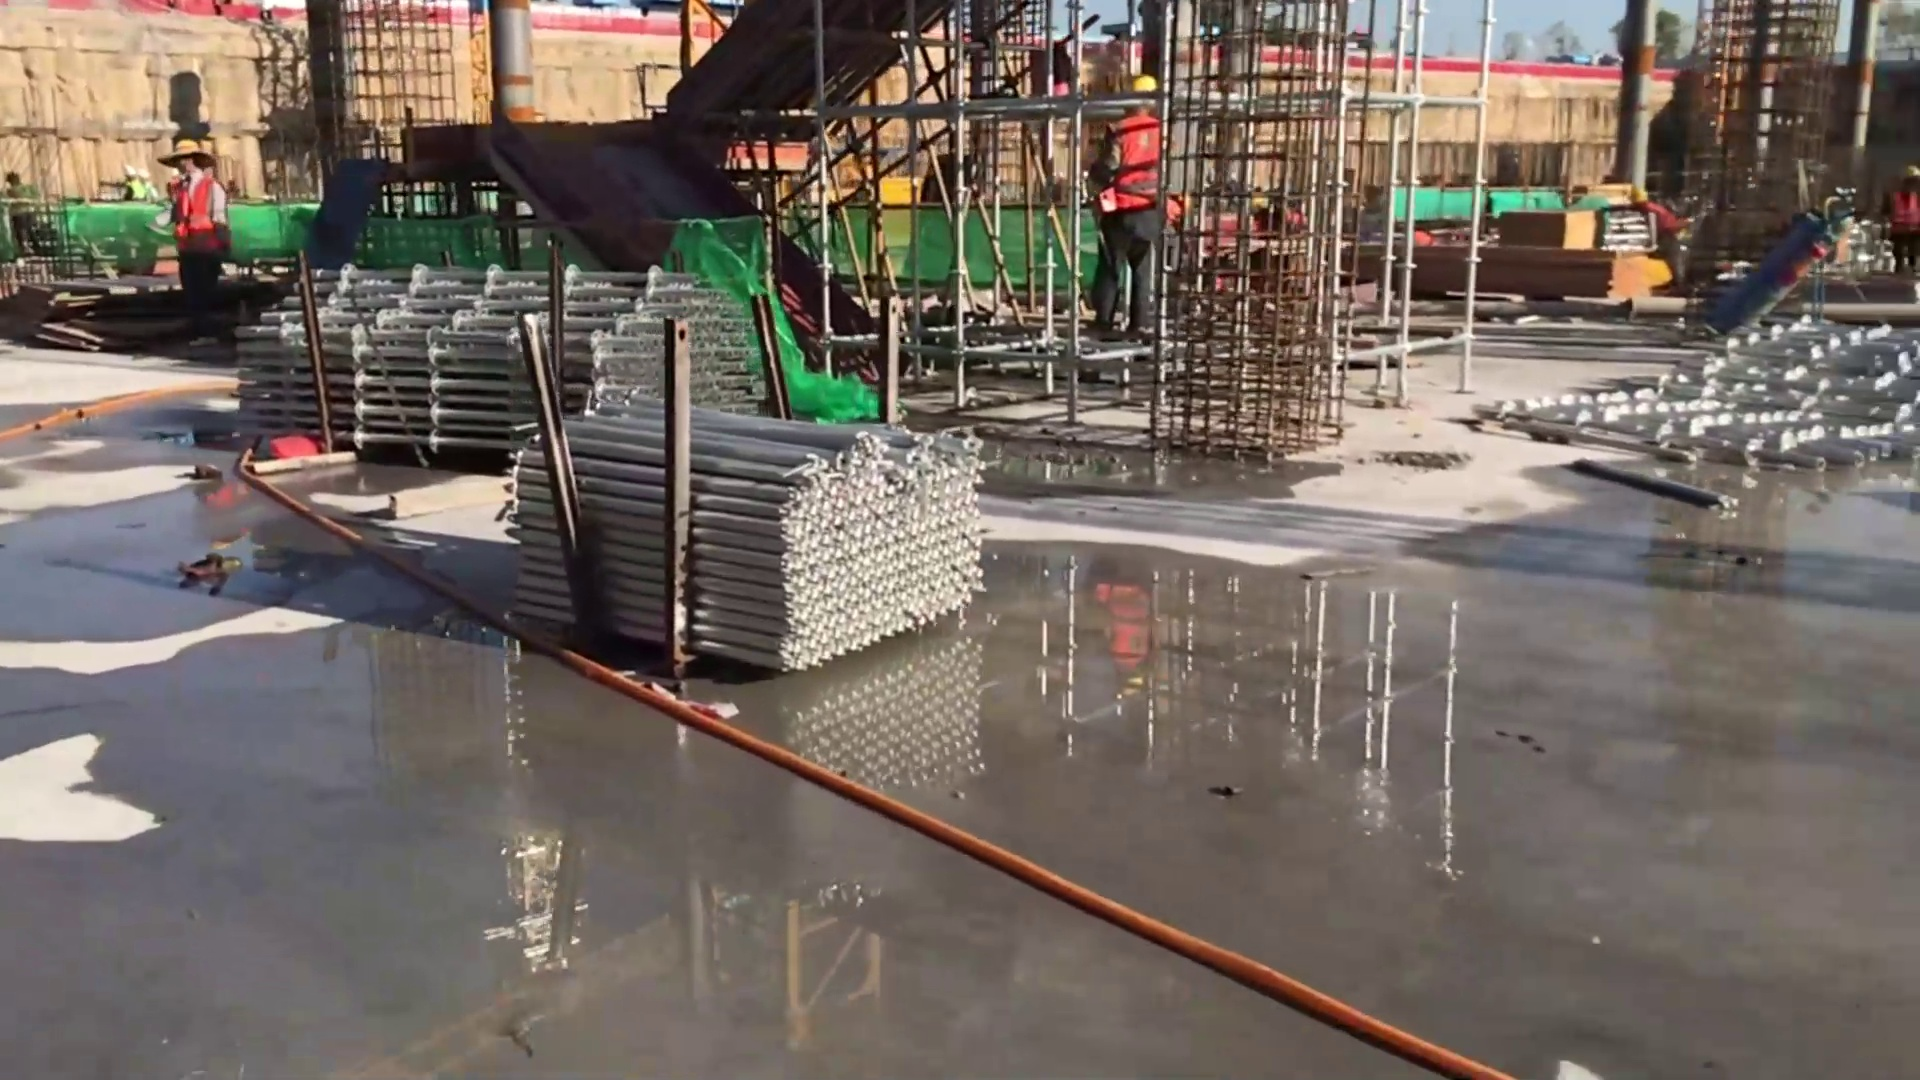person: (1075, 68, 1163, 345), (161, 142, 227, 347), (1621, 179, 1685, 303), (1888, 162, 1920, 274)
scaffold: (509, 397, 986, 677), (239, 261, 773, 458), (1589, 341, 1920, 462)
vest: (1097, 115, 1162, 216)
